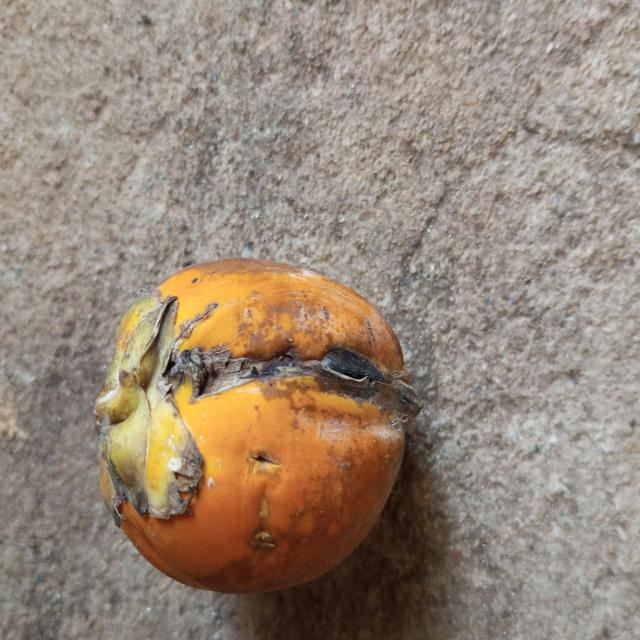damaged: (96, 258, 414, 595)
